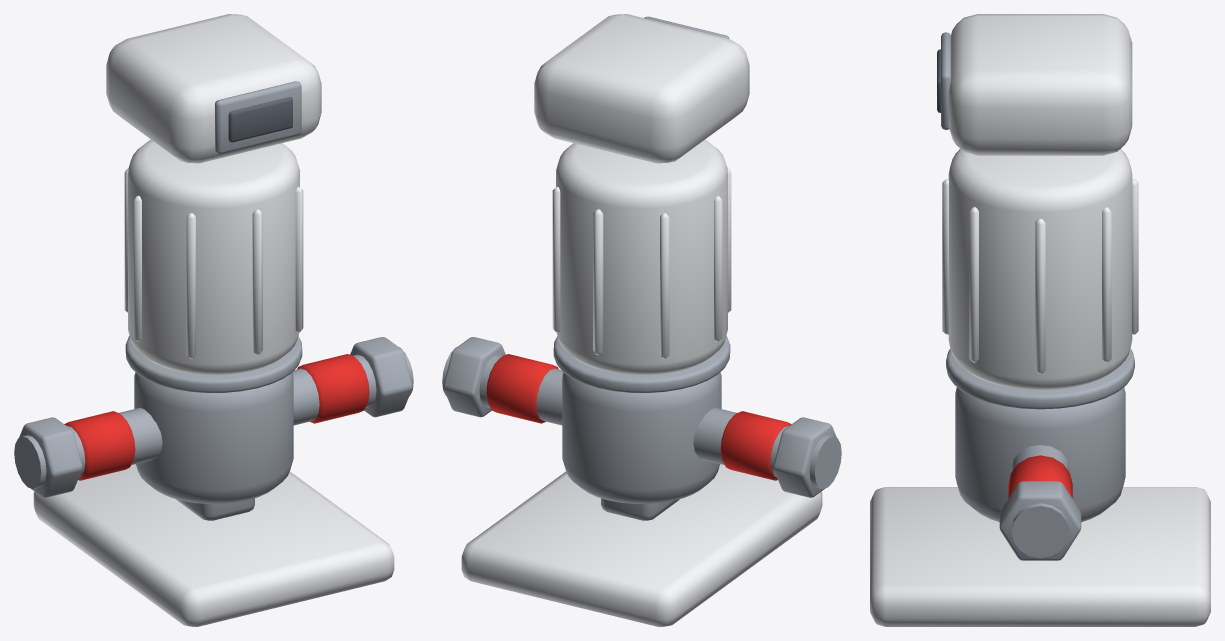
File: heizung.umwaelzpumpe.glb
3 renders of one model, left to right at view 1: azimuth 30°, elevation 25°; view 2: azimuth 150°, elevation 25°; view 3: azimuth 270°, elevation 25°, orthographic. The views are drawn at different scales.
Visible parts, largest first — view 1: heizung.umwaelzpumpe; view 2: heizung.umwaelzpumpe; view 3: heizung.umwaelzpumpe.
Part boxes in pixels (box(x1,y1,x2,y2)): heizung.umwaelzpumpe: box(14, 14, 413, 626); heizung.umwaelzpumpe: box(442, 14, 841, 626); heizung.umwaelzpumpe: box(870, 14, 1210, 626).
Bounding box in the file's own units: 0.35 × 0.45 × 0.26.
